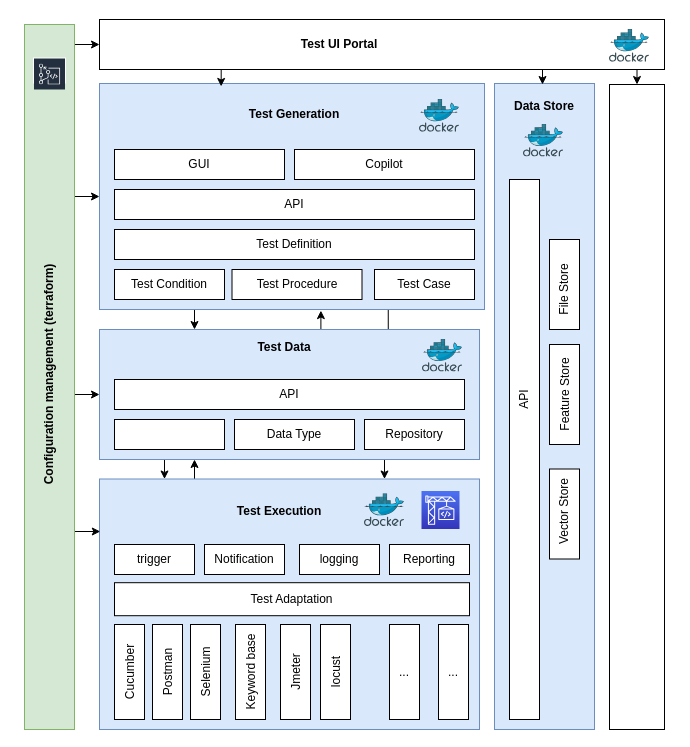
This 690x747 diagram has some shape labels left out. The centre of each missing label's shape, as x and y in pixels:
Test Management (Jira, Xray, Testrails etc): pixel 636 407
Validator: pixel 169 434
